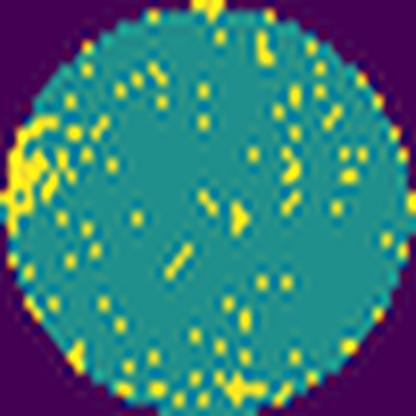Edge-Loc: (0, 108, 63, 235)
